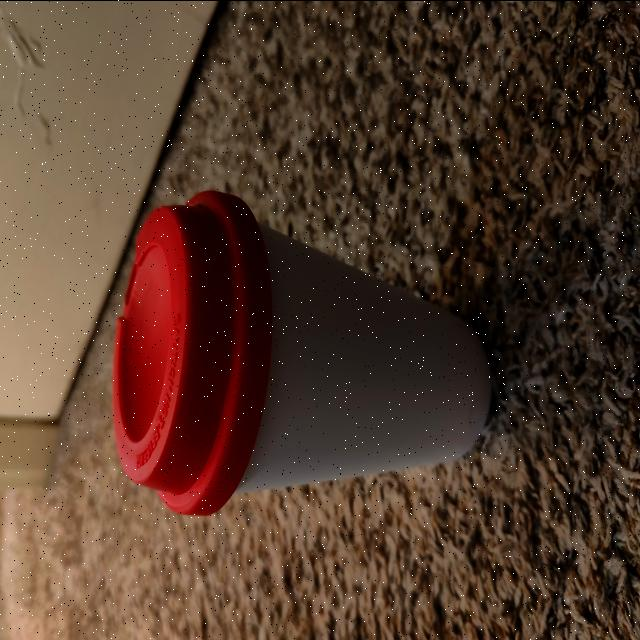mug: (122, 191, 486, 508)
